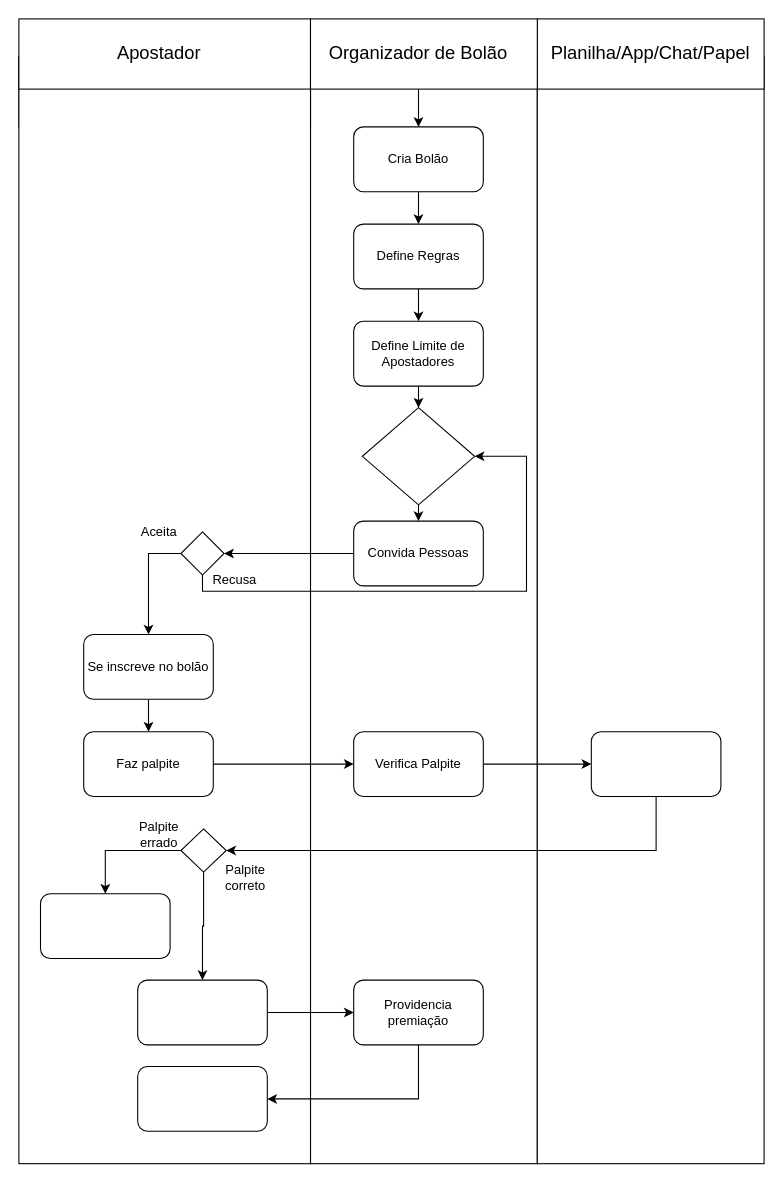
This 783x1183 diagram has some shape labels left out. Each missing label, with the box of its shape:
Armazena Palpite: (590, 731, 721, 796)
Ganha prêmio: (137, 979, 267, 1045)
Nº de apostadores ≤Limite: (361, 407, 475, 505)
Não ganha prêmio: (39, 893, 170, 959)
Recebe premiação: (137, 1065, 267, 1131)
